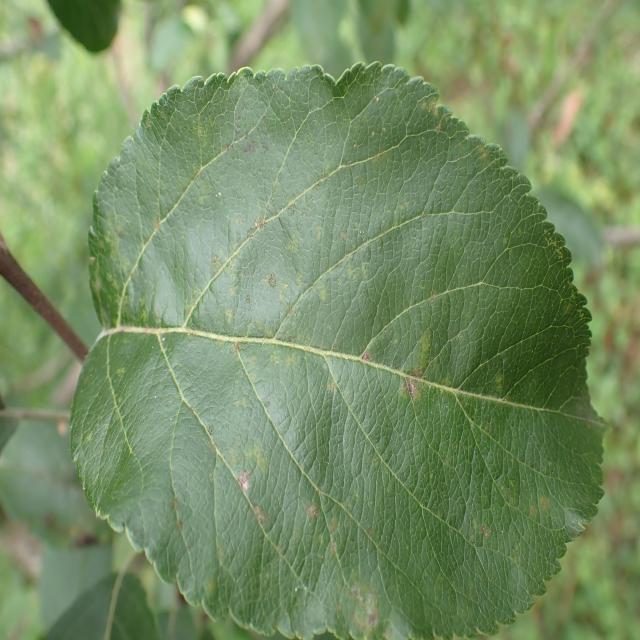scab: (101, 106, 603, 628)
